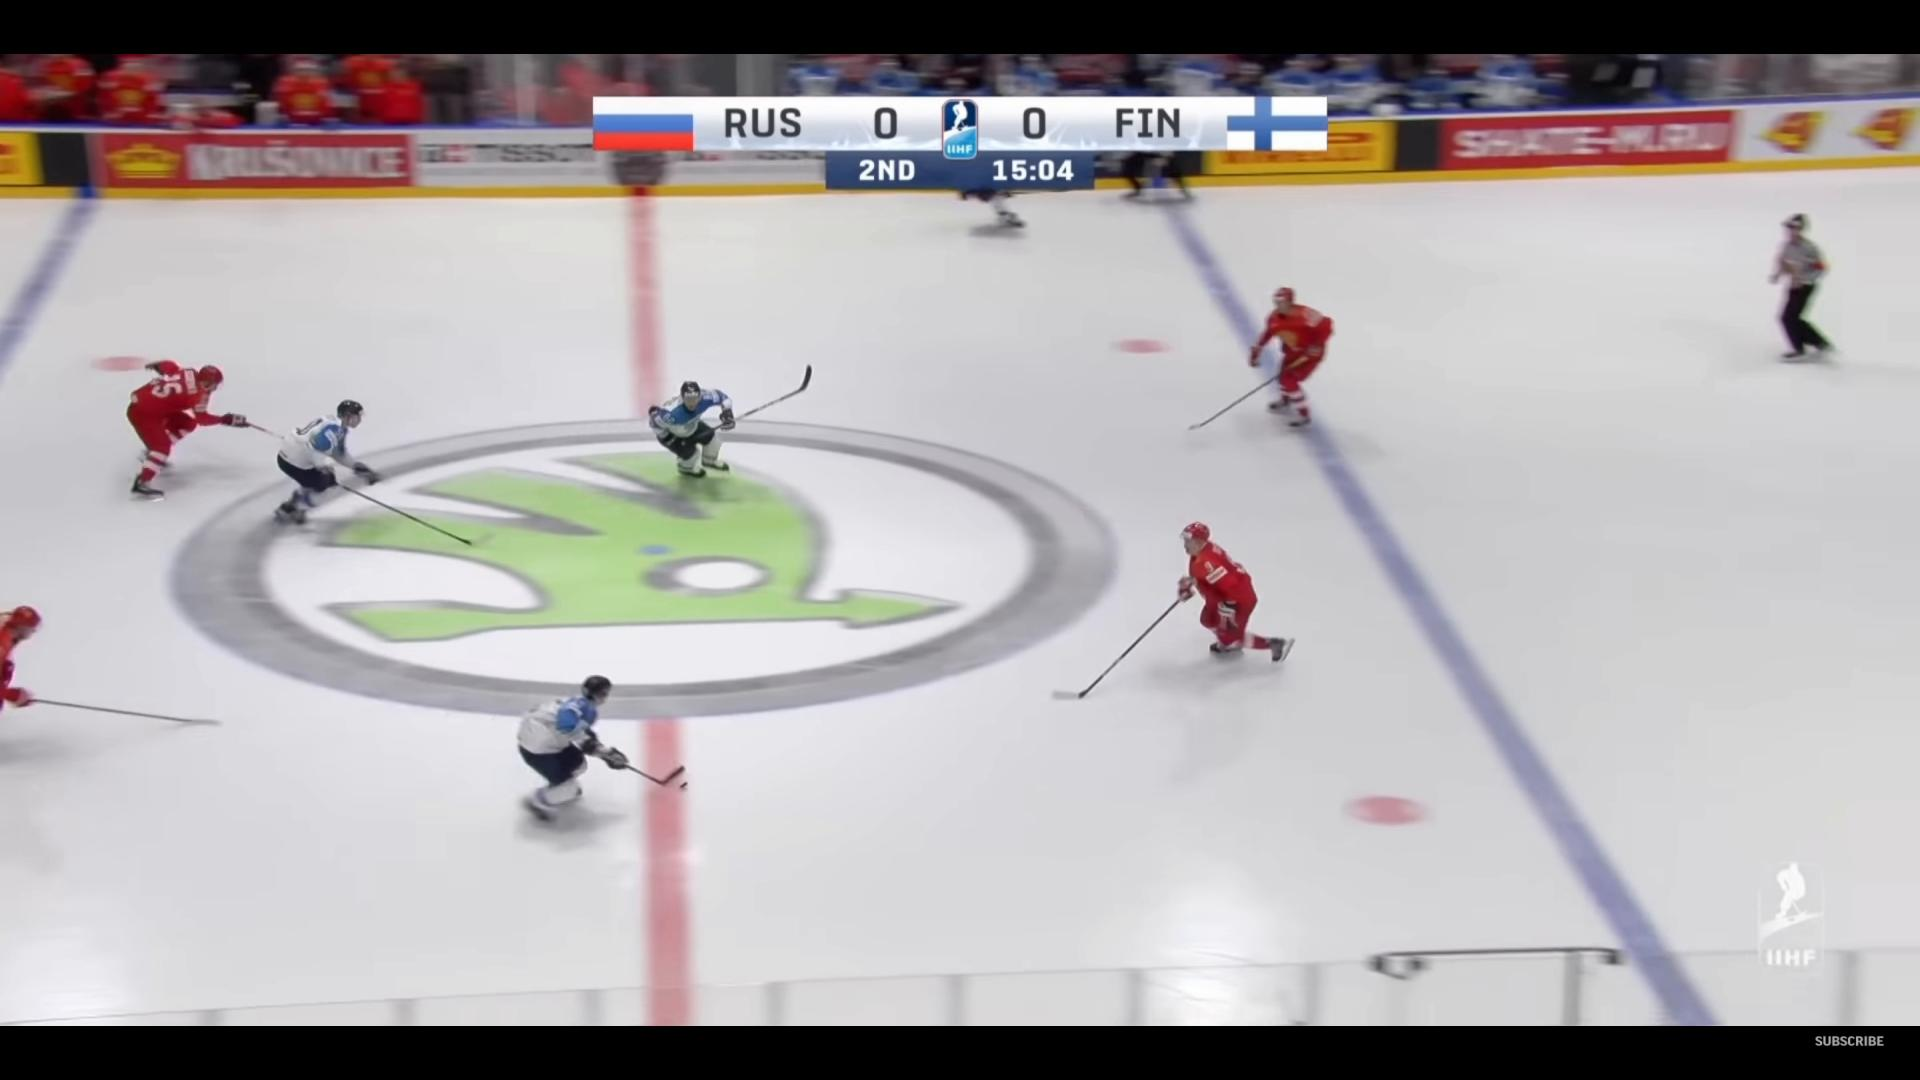puck: (679, 781, 687, 787)
